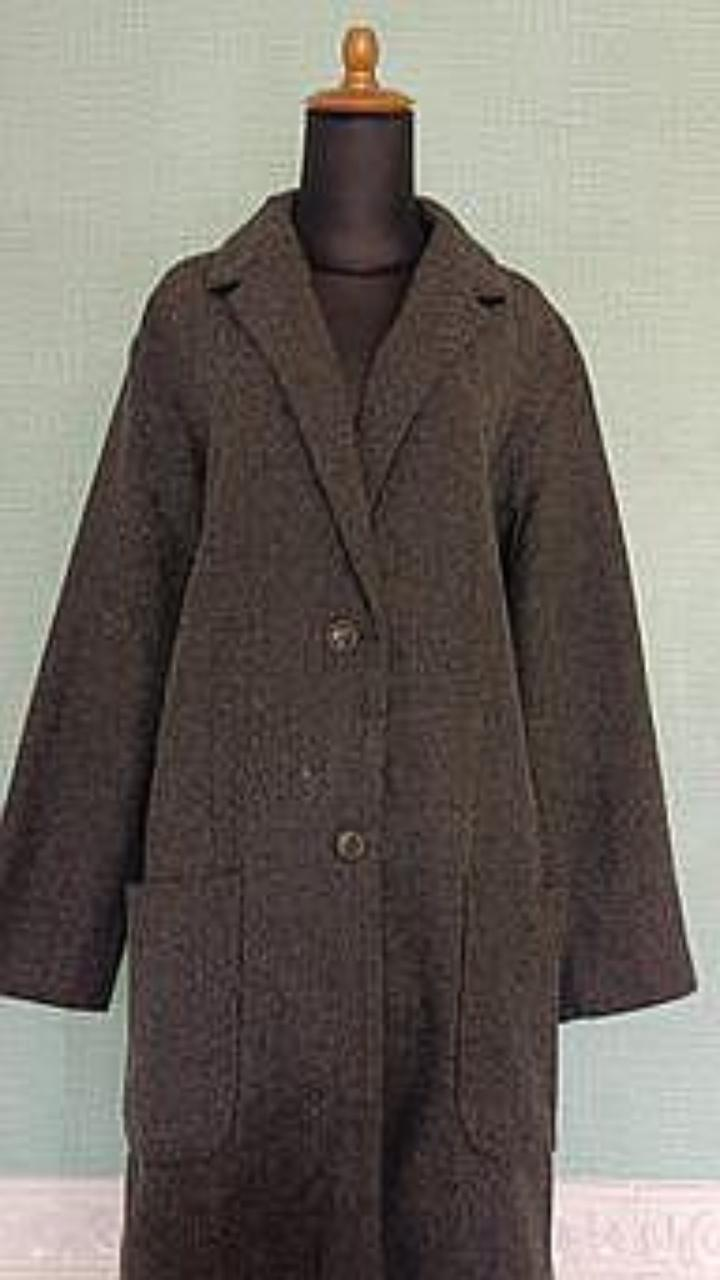Coat: (0, 189, 696, 1279)
